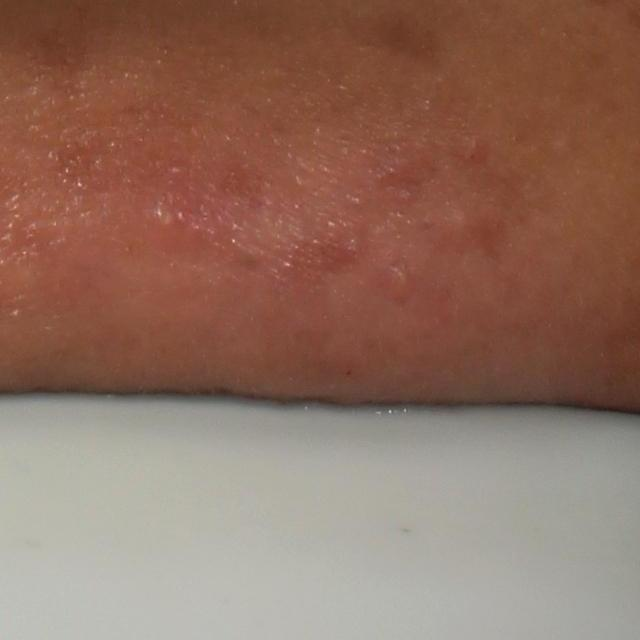pustule: (138, 188, 188, 240)
